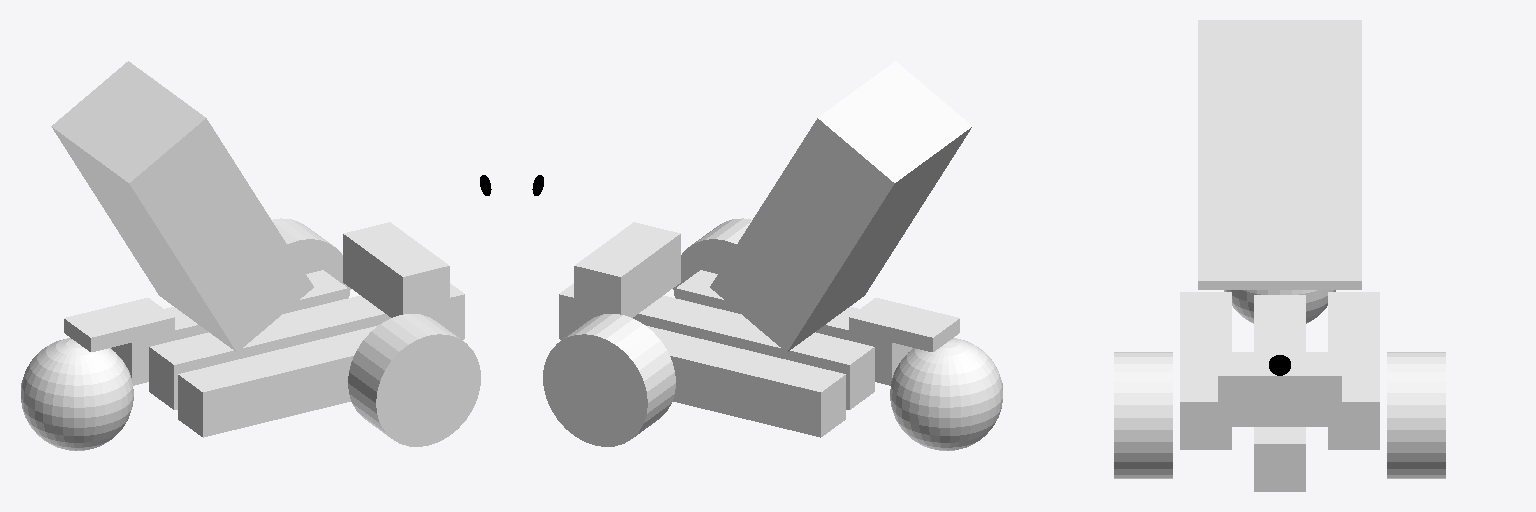
The robot description file, URDF, robot "EduBot":
<?xml version="1.0"?>

<robot name="EduBot">
    
  <joint name="base_to_left_body" type="fixed"> 
    <parent link="base_link"/>
    <child link="left_link"/>
    <origin xyz="0.0 0.0325 0.028" rpy="0.0 0.0 0.0"/>
    <axis xyz="0.0 0.0 0.0"/>   
  </joint>

  <joint name="base_to_right_body" type="fixed">
    <parent link="base_link"/>
    <child link="right_link"/>
    <origin xyz="0.0 -0.0325 0.028" rpy="0.0 0.0 0.0"/>
    <axis xyz=""/> 
  </joint>
  
  <joint name="base_to_upper_body" type="fixed">
    <parent link="base_link"/>
    <child link="up_link"/>
    <origin xyz="0.025 0.0 0.052" rpy="0.0 0.0 0.0"/>
    <axis xyz="0.0 0.0 0.0"/>  
  </joint>

  <joint name="base_to_brick" type="fixed">
    <parent link="base_link"/>
    <child link="nxt_link"/>
    <origin xyz="-0.06 0.0 0.063" rpy="0.0 0 0.0"/>
    <axis xyz="0.0 0.0 0.0"/>  
  </joint>


  <joint name="base_to_tail" type="fixed">
    <parent link="base_link"/>
    <child link="tail_link"/>
    <origin xyz="-0.1 0.0 0.0605" rpy="0.0 0.0 0.0"/>
    <axis xyz="0.0 0.0 0.0"/>  
  </joint>


  <joint name="tail_to_caster" type="fixed">
    <parent link="tail_link"/>
    <child link="caster_wheel"/>
    <origin xyz="-0.045 0.0 -0.03" rpy="0.0 0.0 0.0"/>
    <axis xyz="0.0 0.0 0.0"/>  
  </joint>
  

  <joint name="motor_joint_left" type="continuous">
    <parent link="left_link"/>
    <child link="left_wheel"/>
    <origin xyz="0.0 0.0275 0.0" rpy="-1.5708 0.0 0.0"/>
    <axis xyz="0.0 0.0 1.0"/>  
  </joint>


  <joint name="motor_joint_right" type="continuous">
    <parent link="right_link"/>
    <child link="right_wheel"/>
    <origin xyz="0.0 -0.0275 0.0" rpy="-1.5708 0.0 0.0"/>
    <axis xyz="0.0 0.0 1.0"/>  
  </joint>

  <joint name="motor_sensor" type="continuous">
    <parent link="up_link"/>
    <child link="ultrasonic_link"/>
    <origin xyz="0.0 0.0 0.0165" rpy="0.0 0.0 0.0"/>
    <axis xyz="0.0 0.0 1.0"/>  
  </joint>
  
  <joint name="ultra_link_to_scan" type="fixed">
    <parent link="ultrasonic_link"/>
    <child link="ultra_sensor"/>
    <origin xyz="0.0475 0.0 0.0175" rpy="0.0 1.5708 0.0"/>
    <axis xyz="0.0 0.0 0.0"/>  
  </joint>  
  

<!-- LINKS -->

  <link name="base_link">
    <visual>
      <origin xyz="-0.0225 0.0 0.028" rpy="0.0 0.0 0.0"/>                  
      <geometry>
        <box size="0.155 0.023 0.023"/>
      </geometry> 
      <material name="white">
        <color rgba="1 1 1 1"/>
      </material>
    </visual>
  </link>
  
   <link name="left_link">
    <visual>
      <origin xyz="-0.046 0.0 0.0" rpy="0.0 0.0 0.0"/>                  
      <geometry>
        <box size="0.115 0.023 0.023"/>
      </geometry> 
      <material name="white">
        <color rgba="1 1 1 1"/>
      </material>
    </visual>
  </link>
  
    <link name="right_link">
    <visual>
      <origin xyz="-0.046 0.0 0.0" rpy="0.0 0.0 0.0"/>                  
      <geometry>
        <box size="0.115 0.023 0.023"/>
      </geometry> 
      <material name="white">
        <color rgba="1 1 1 1"/>
      </material>
    </visual>
  </link> 
      
  <link name="tail_link">
    <visual>
      <origin xyz="-0.0225 0.0 0.0" rpy="0.0 0.0 0.0"/>                  
      <geometry>
        <box size="0.045 0.025 0.0075"/>
      </geometry> 
      <material name="white">
        <color rgba="1 1 1 1"/>
      </material>
    </visual>
  </link>
  
  <link name="caster_wheel">
    <visual>
      <origin xyz="0.0 0.0 0.0" rpy="0.0 0.0 0.0"/>                  
      <geometry>
        <sphere radius="0.02625"/>
      </geometry> 
      <material name="white">
        <color rgba="1 1 1 1"/>
      </material>
    </visual>
  </link>
  
  <link name="nxt_link">
    <visual>
      <origin xyz="-0.0288 0.0 0.0498" rpy="0.0 1.0472 0.0"/>                  
      <geometry>
        <box size="0.115 0.072 0.0475"/>
      </geometry> 
      <material name="white">
        <color rgba="1 1 1 1"/>
      </material>
    </visual>
  </link>
  
  <link name="up_link">
    <visual>
      <origin xyz="0.0 0.0 0.0" rpy="0.0 0.0 0.0"/>                  
      <geometry>
        <box size="0.025 0.055 0.025"/>
      </geometry> 
      <material name="white">
        <color rgba="1 1 1 1"/>
      </material>
    </visual>
  </link> 
  
  <link name="left_wheel">
    <visual>
      <geometry>
        <cylinder length="0.026" radius="0.028"/>
      </geometry>
      <material name="white">
        <color rgba="1 1 1 1"/>
      </material>
    </visual>
  </link>
  
  <link name="right_wheel">
    <visual>
      <geometry>
        <cylinder length="0.026" radius="0.028"/>
      </geometry>
      <material name="white">
        <color rgba="1 1 1 1"/>
      </material>
    </visual>
  </link>
  
  <link name="ultrasonic_link">
    <visual>
      <origin xyz="0.016 0.0 0.0" rpy="0.0 0.0 1.5708" />
        <geometry>
          <mesh filename="package://nxt_description/meshes/parts/53792.dae" scale=" 0.0004  0.0004  0.0004"/>
        </geometry>
    </visual>
  </link>
  
    <link name="ultra_sensor">
    <visual>
      <origin xyz="0.0 0.0 0.0" rpy="0.0 0.0 0.0" />
        <geometry>
          <cylinder length="0.0005" radius="0.005"/>
        </geometry>
        <material name="white">
          <color rgba="0.0 0.0 0.0 0.0"/>
        </material>
    </visual>
  </link>
  
</robot>

--- Render facts (derived) ---
Views: 3 orthographic renders of the robot side by side, from view 1: azimuth 30°, elevation 25°; view 2: azimuth 150°, elevation 25°; view 3: azimuth 270°, elevation 25°.
Robot: EduBot — 11 links, 10 joints (3 continuous, 7 fixed); root link base_link; default pose: every joint at zero.
Visible links, largest first — view 1: nxt_link, right_wheel, right_link, caster_wheel, base_link, up_link, tail_link, left_link, left_wheel; view 2: nxt_link, left_wheel, left_link, caster_wheel, base_link, up_link, tail_link, right_link, right_wheel; view 3: nxt_link, up_link, left_wheel, right_wheel, left_link, right_link, base_link, caster_wheel.
Link boxes in pixels (x1,y1,x2,y2): nxt_link: [51, 61, 313, 352]; right_wheel: [348, 314, 480, 446]; right_link: [178, 325, 378, 437]; caster_wheel: [21, 338, 133, 450]; base_link: [149, 283, 464, 409]; up_link: [343, 222, 449, 318]; tail_link: [64, 298, 174, 351]; left_link: [111, 270, 347, 385]; left_wheel: [272, 218, 350, 297]; nxt_link: [710, 61, 972, 352]; left_wheel: [543, 314, 675, 446]; left_link: [645, 325, 845, 437]; caster_wheel: [890, 338, 1002, 450]; base_link: [559, 283, 874, 409]; up_link: [574, 222, 680, 318]; tail_link: [849, 298, 959, 351]; right_link: [676, 270, 912, 385]; right_wheel: [673, 218, 751, 297]; nxt_link: [1198, 20, 1361, 289]; up_link: [1218, 352, 1341, 426]; left_wheel: [1387, 352, 1445, 478]; right_wheel: [1114, 352, 1172, 478]; left_link: [1328, 292, 1379, 449]; right_link: [1180, 292, 1231, 449]; base_link: [1254, 295, 1305, 491]; caster_wheel: [1224, 290, 1335, 323].
Size in the robot's own frame: 0.244 by 0.146 by 0.1745 metres.
Meshes: 1 distinct files referenced, 0 mesh visuals loaded (none loaded); not drawn: 1 (reference not matched to a file when rendering).